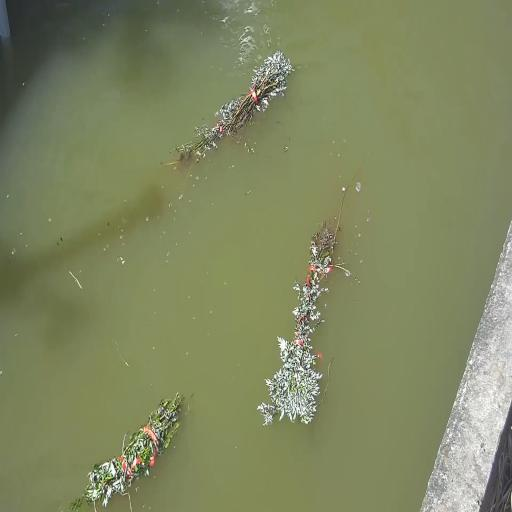twig: (256, 185, 351, 429), (161, 50, 296, 167), (67, 388, 186, 512)
